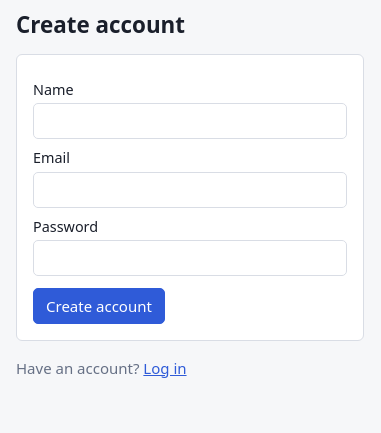
Test case: auth pages and guards › rejects a short password on register without calling the server
Type "Alice" into the field labelled "Name" at (190, 121), box [33,103,347,139]
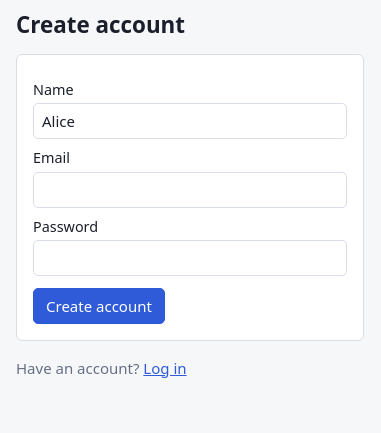
Type "a@example.com" into the field labelled "Email" at (190, 190), box [33,172,347,208]
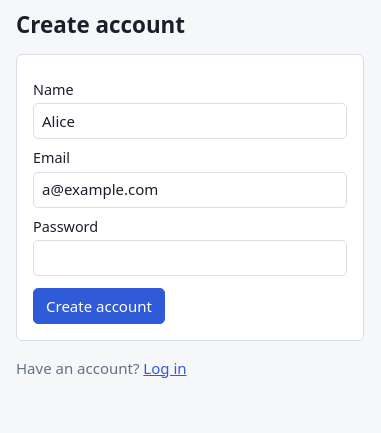
Type "short" into the password field labelled "Password" at (190, 258), box [33,240,347,276]
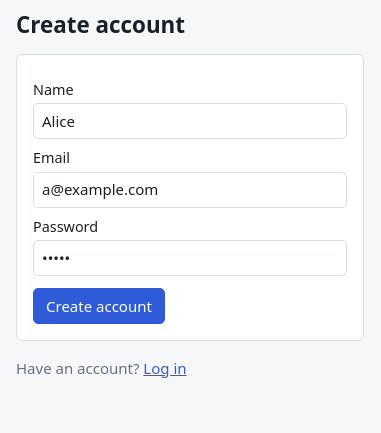
Click the button "Create account" at (99, 306), box [33,288,165,324]
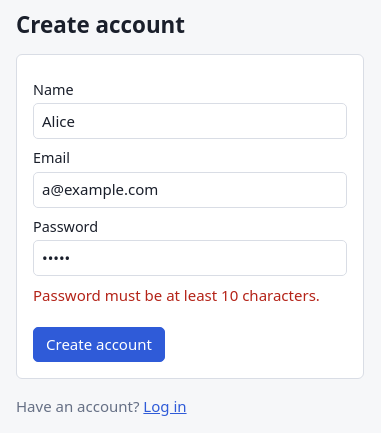
Now the message shows "at least 10 characters", box [33,285,320,305]
